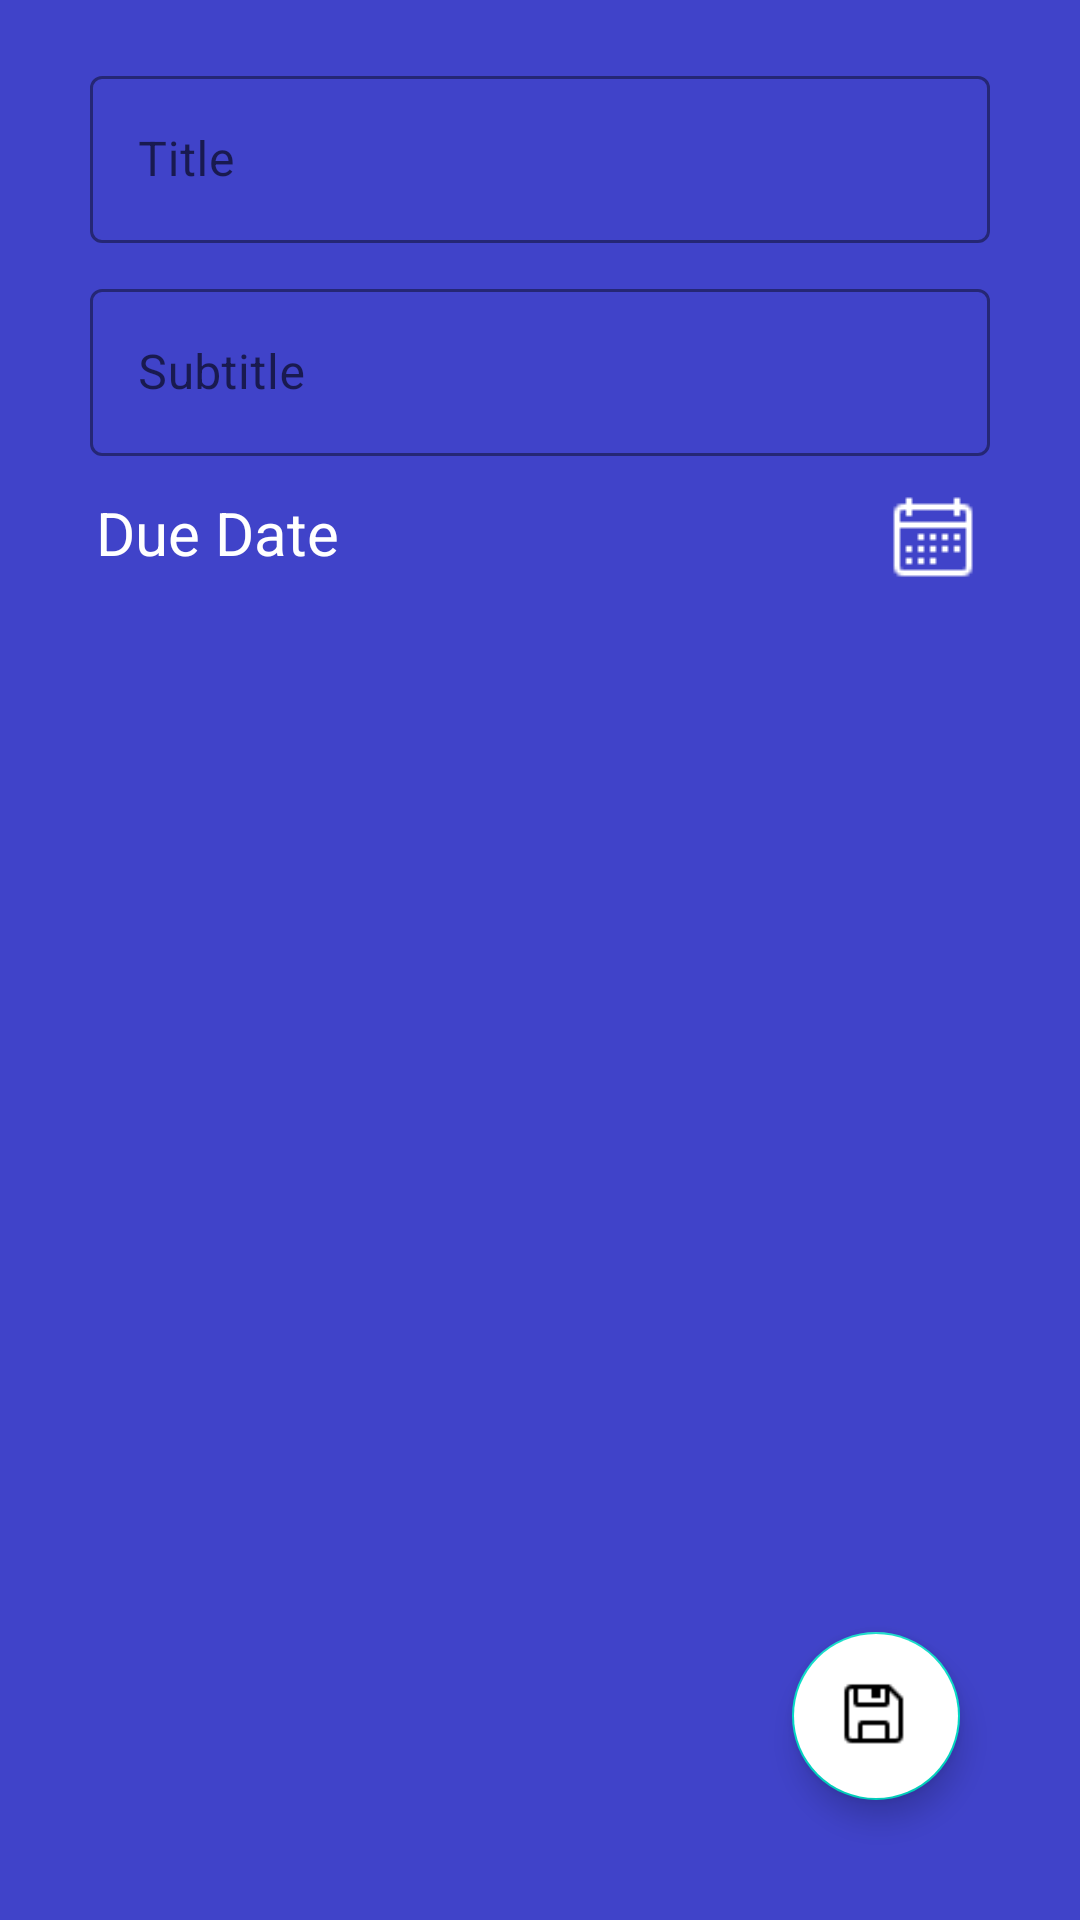

Icons on this 1080 x 1920 Android screen, each with its box as (x1, y1, x2, y2):
calender: (893, 497, 973, 577)
save: (792, 1632, 960, 1800)
